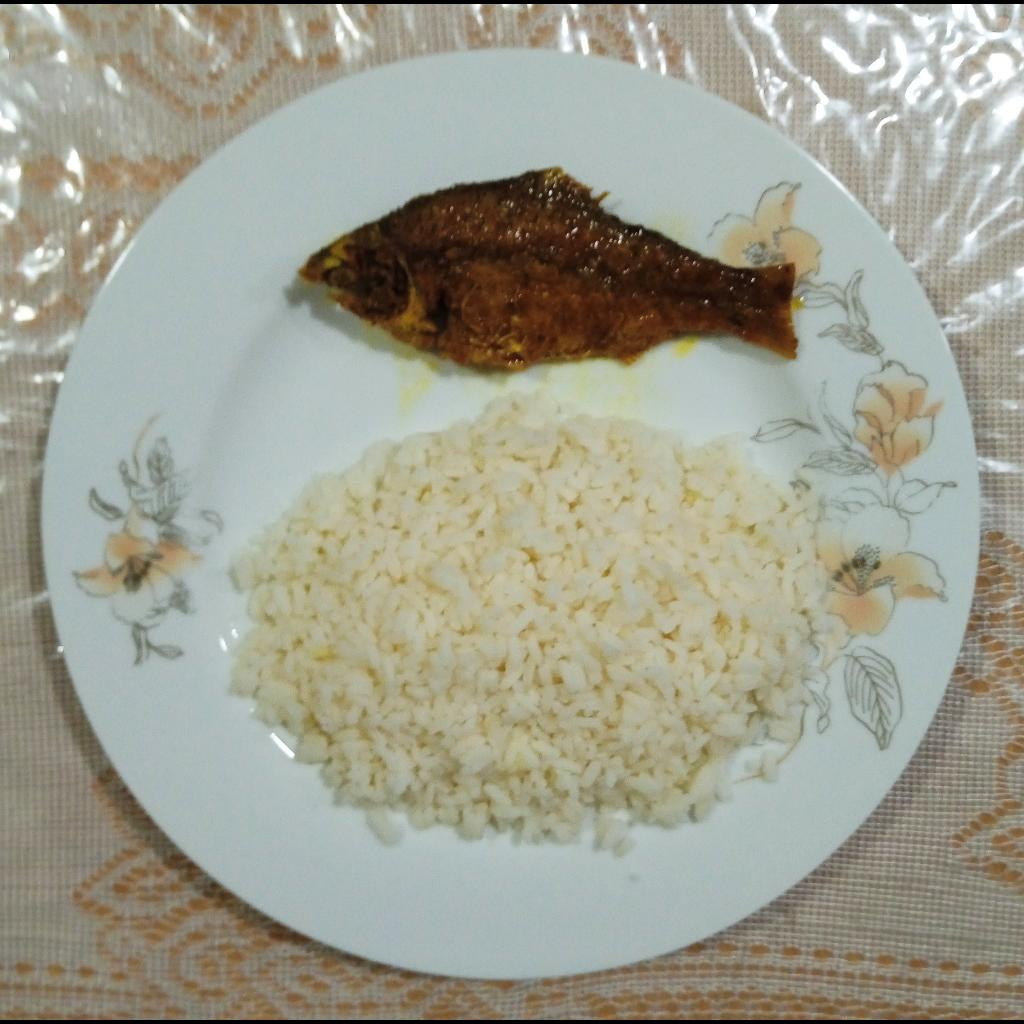fish: (299, 167, 799, 373)
rice: (228, 393, 833, 849)
